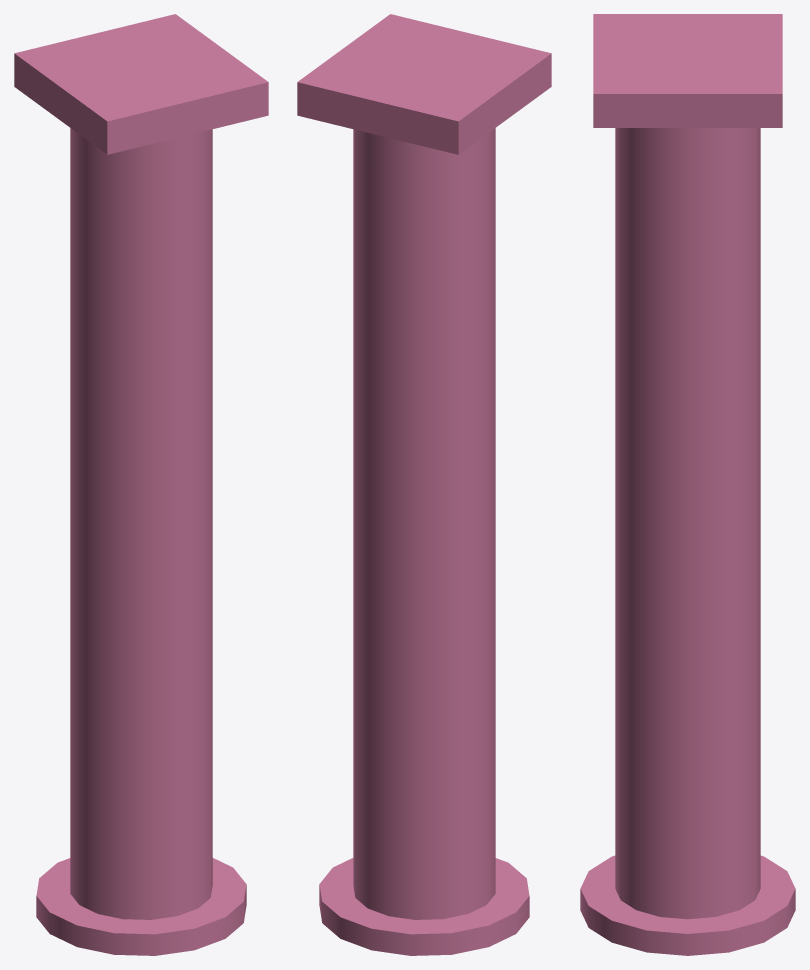
The model's file is pillarB.FBX.
The picture shows the model from 3 angles, left to right: view 1: azimuth 30°, elevation 25°; view 2: azimuth 150°, elevation 25°; view 3: azimuth 270°, elevation 25°; orthographic projection.
Visible parts, largest first — view 1: pillarB; view 2: pillarB; view 3: pillarB.
Part boxes in pixels (box(x1,y1,x2,y2)): pillarB: box(14, 14, 268, 955); pillarB: box(297, 14, 551, 955); pillarB: box(580, 14, 795, 955).
Size of what is drawn, in the model's own units: 137 by 137 by 600.
